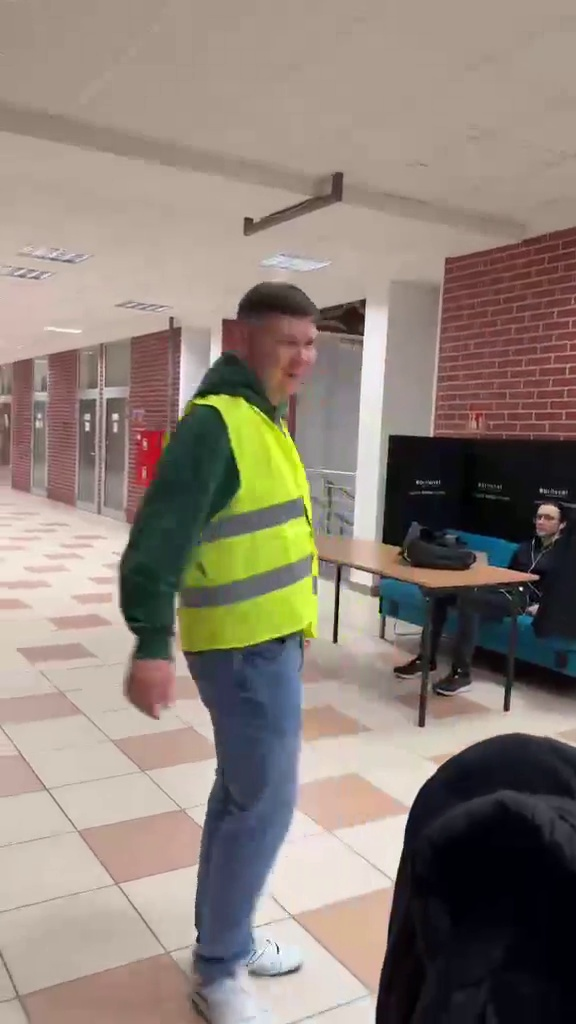no vest: (441, 486, 570, 682)
vest: (121, 267, 356, 1016)
